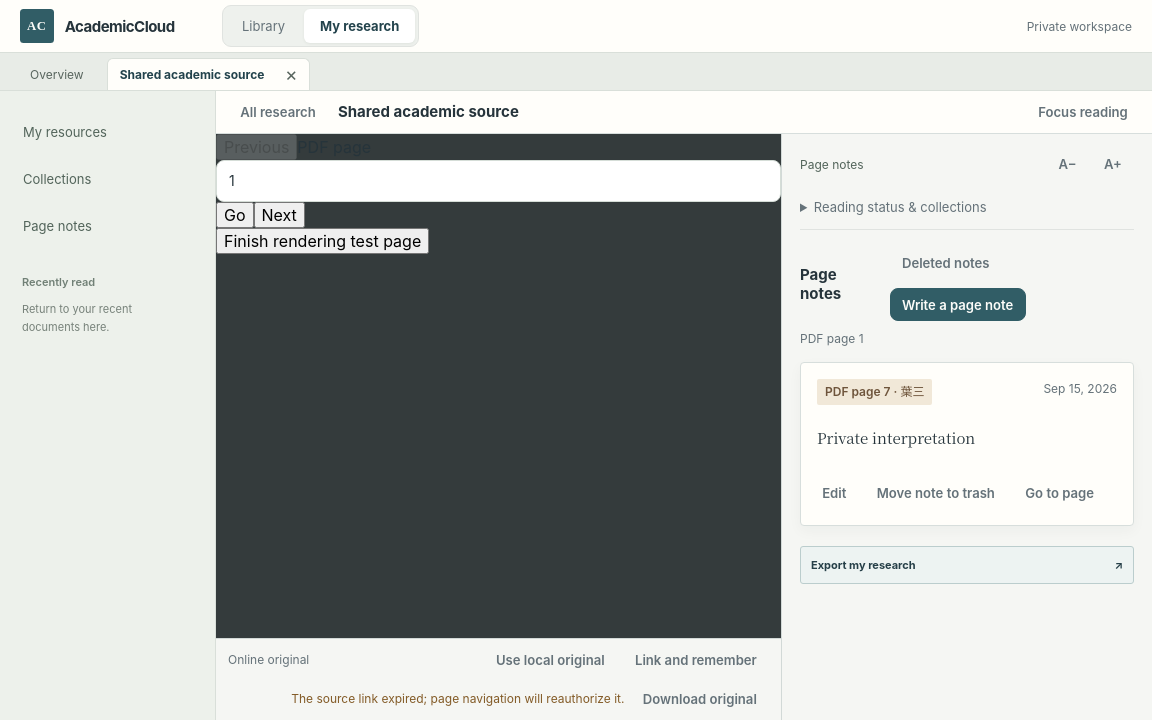
Test: private workspace › reauthorizes an expired existing-note jump and refuses a replaced source (replacement: false)
The width and height of the screenshot is (1152, 720).
Check: the text "The source link expired; page navigation will reauthorize it." is shown, box [291, 691, 624, 707]
Step 1. Click the button "Go to page" → (1060, 493), box [1013, 476, 1106, 509]
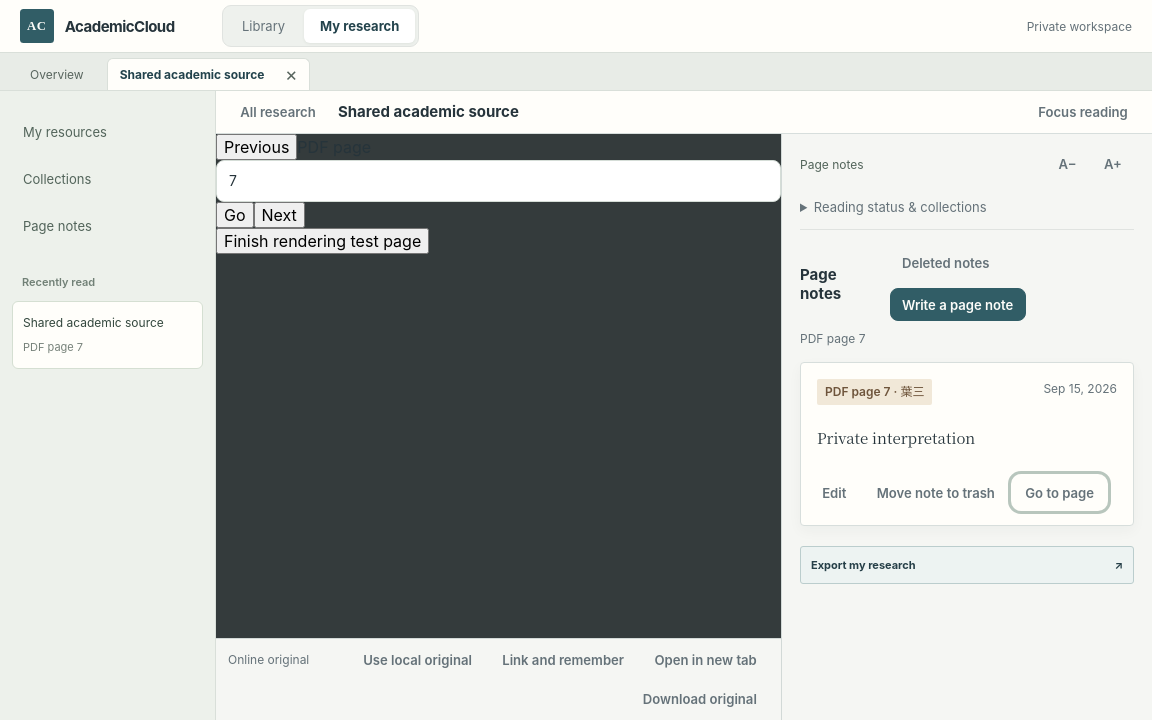
Check: the number field labelled "PDF page" holds "7", box [216, 160, 781, 202]
